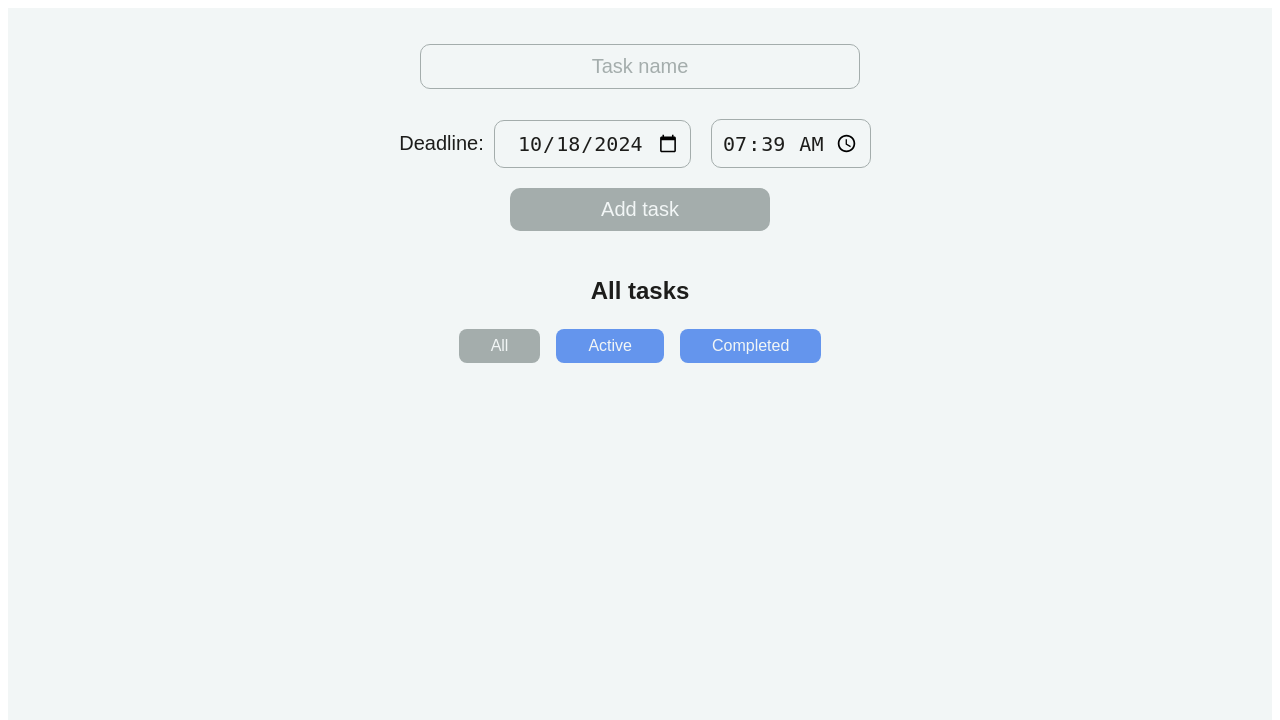
Test: Redux functionality › remove task
This screenshot has width=1280, height=720.
Type "someTask" into the field.
click(640, 66); type("someTask")  # box [420,44,860,89]
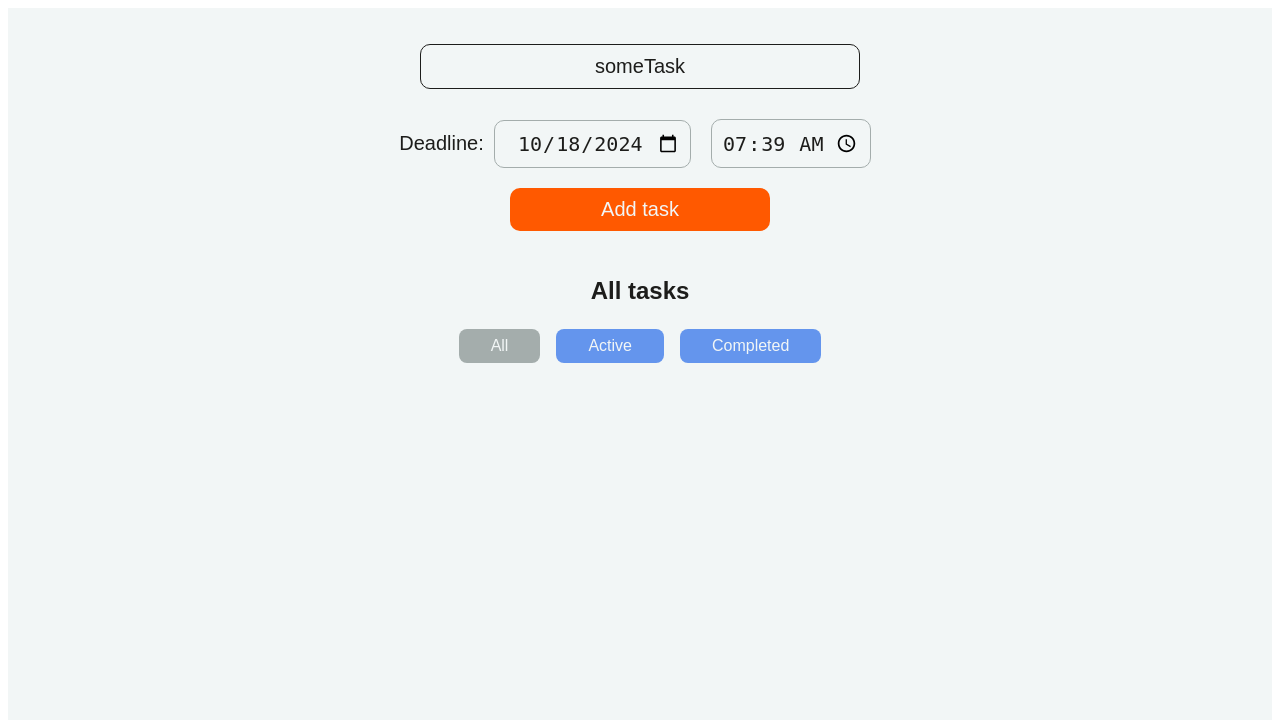
Click the button "Add task".
click(640, 210)  # box [510,188,770,231]
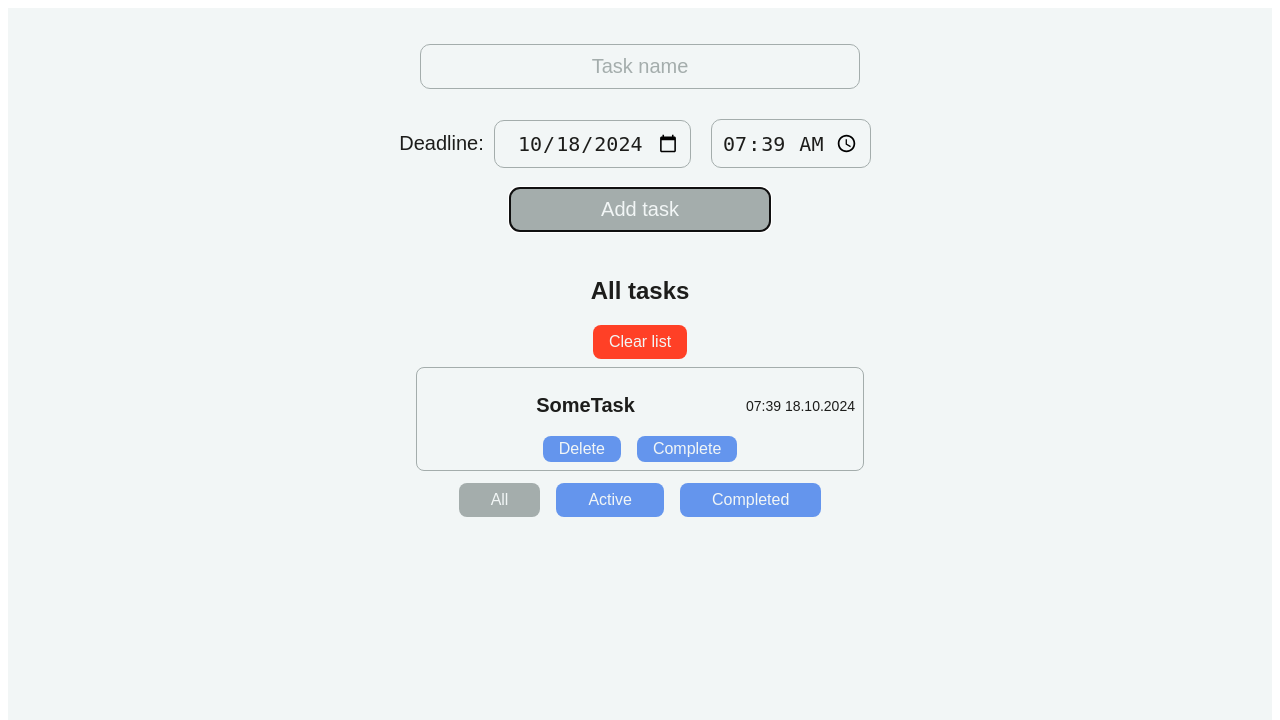
Click the button "Delete".
click(582, 449)  # box [543,436,621,462]
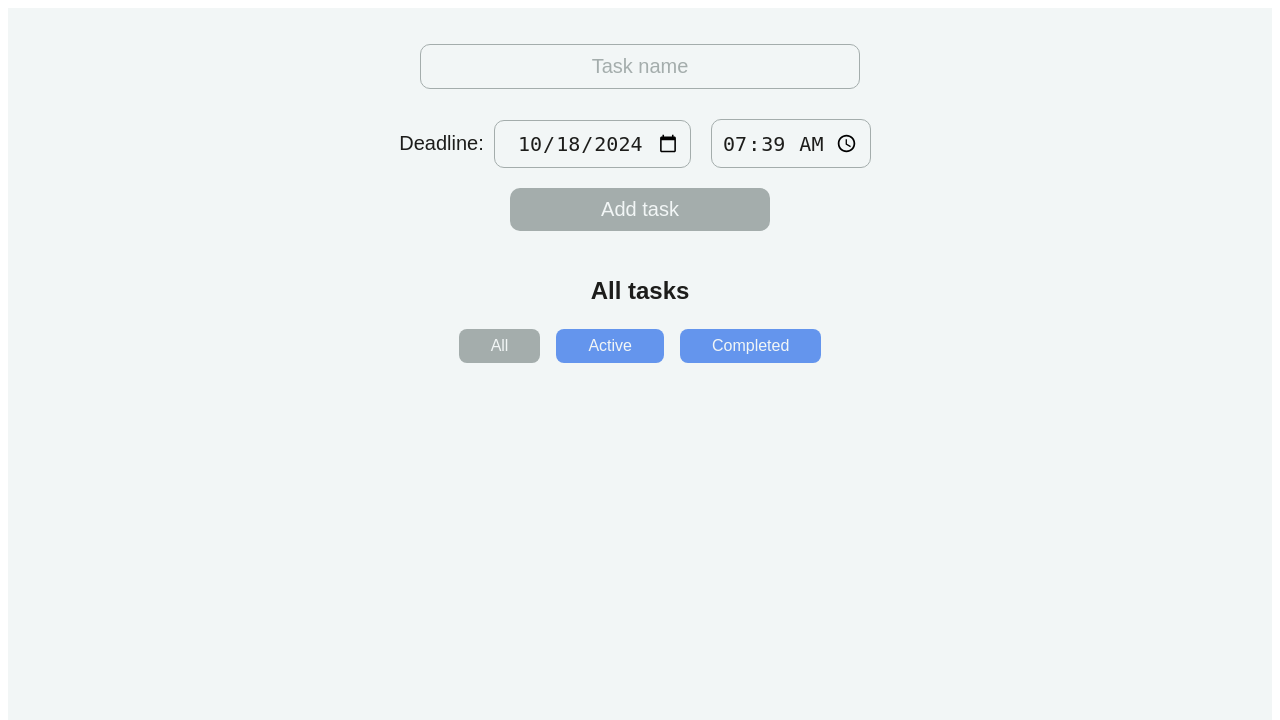
Expected: the heading "SomeTask" is gone
